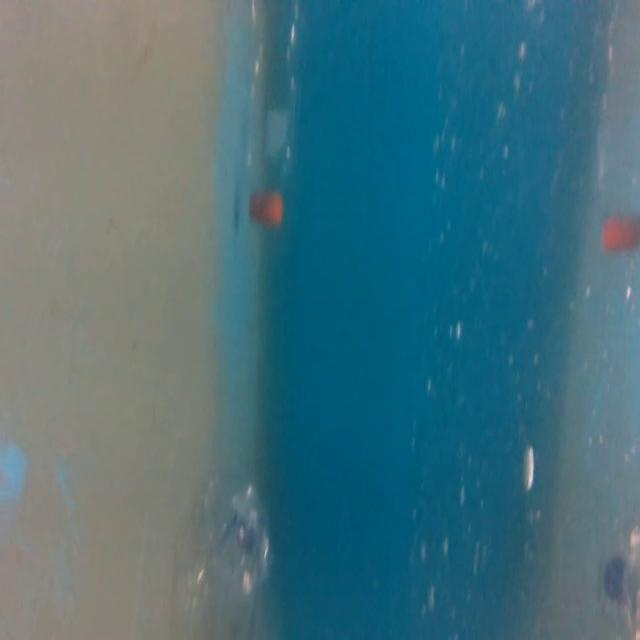plastic bags: (166, 462, 279, 622)
plastic bottle: (238, 2, 312, 234)
